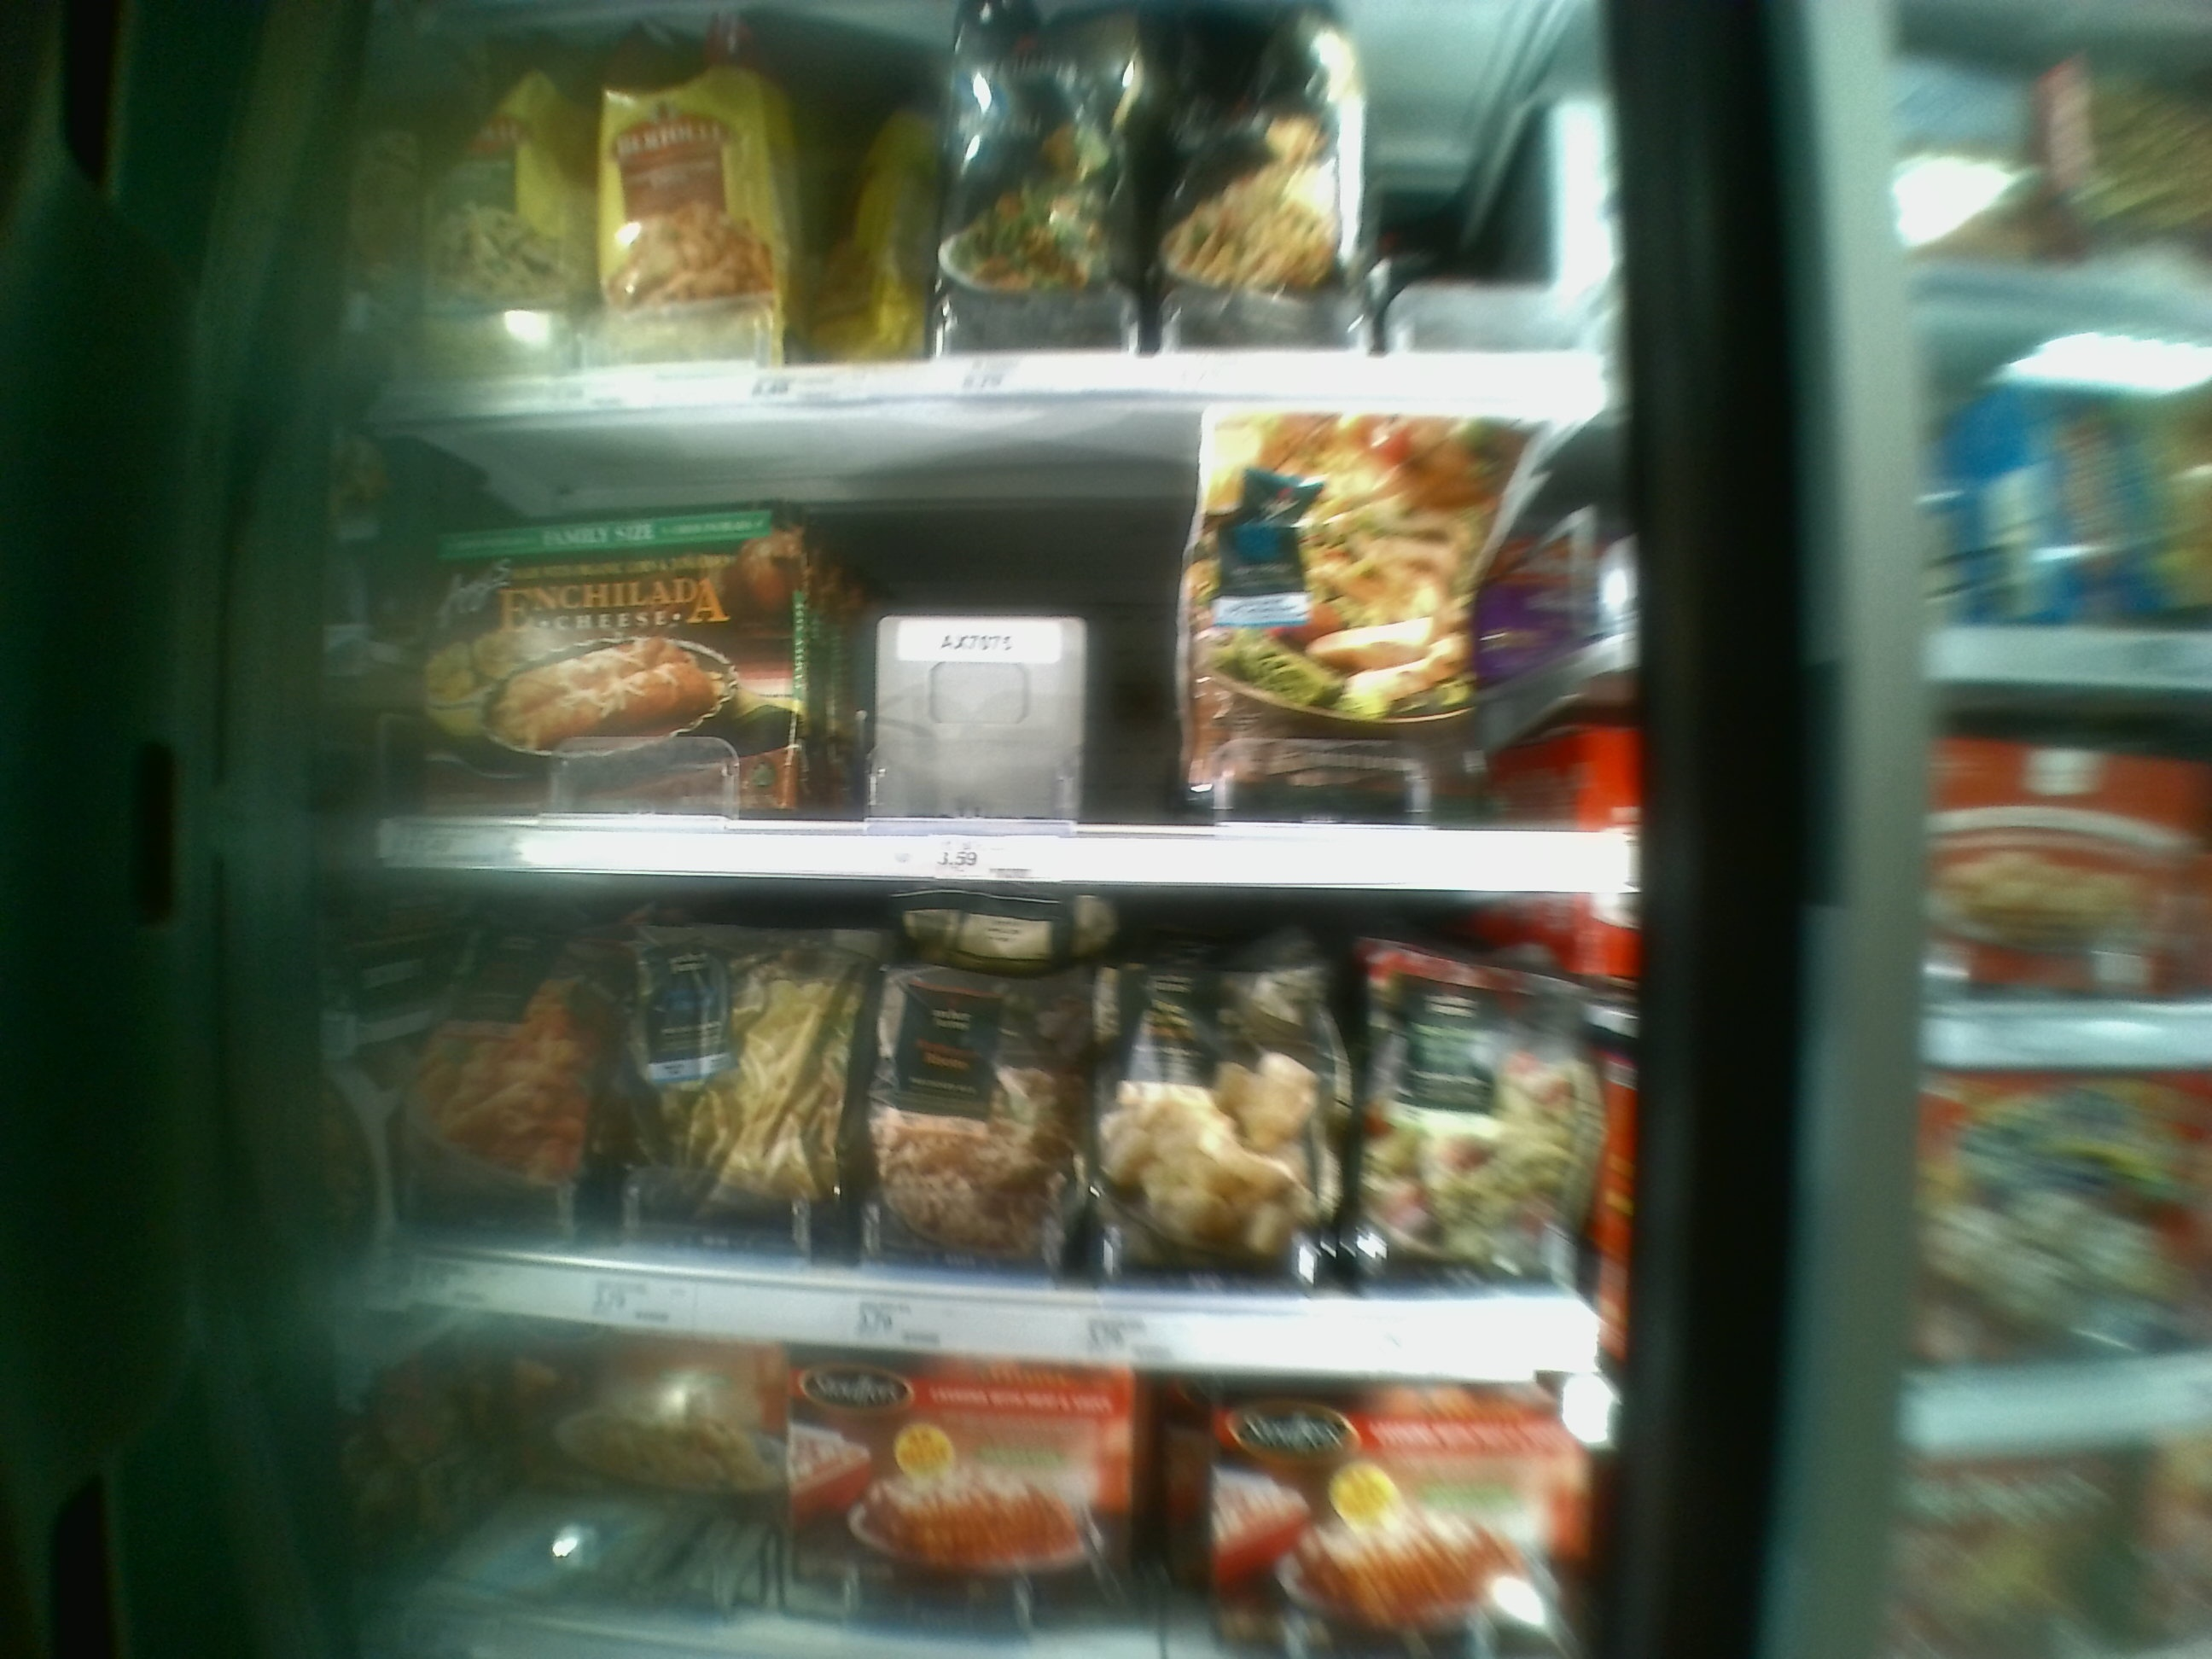frozen-food-shelf: (369, 446, 1635, 884)
